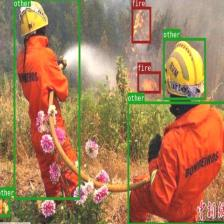fire: (132, 6, 150, 42), (138, 71, 160, 93)
